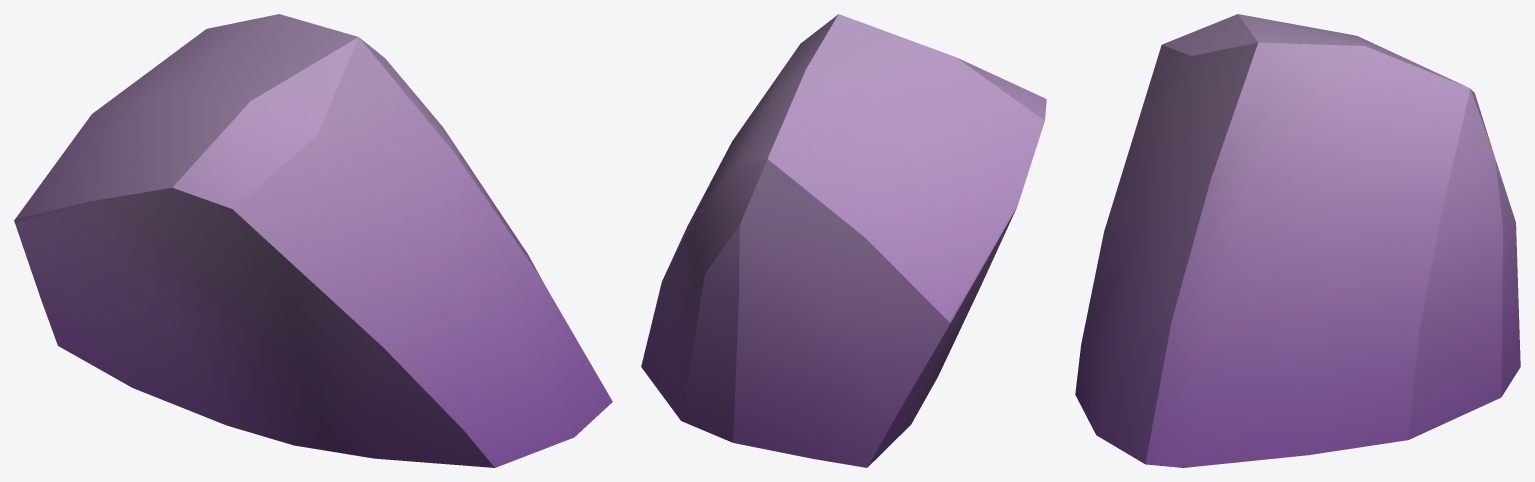
File: Night_Stone_007.FBX
3 renders of one model, left to right at view 1: azimuth 30°, elevation 25°; view 2: azimuth 150°, elevation 25°; view 3: azimuth 270°, elevation 25°, orthographic. The views are drawn at different scales.
Parts seen in each view (by area): view 1: Night_Stone_007; view 2: Night_Stone_007; view 3: Night_Stone_007.
Boxes of the visible parts, x1,y1,x2,y2 form: Night_Stone_007: (14,14,612,467); Night_Stone_007: (641,14,1046,467); Night_Stone_007: (1075,14,1520,467).
Size of the model in its own units: 148 by 119 by 143.
Materials: 1 (1 with a texture image).
